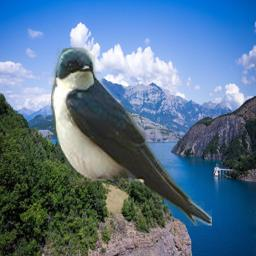Swallow: (51, 47, 212, 226)
